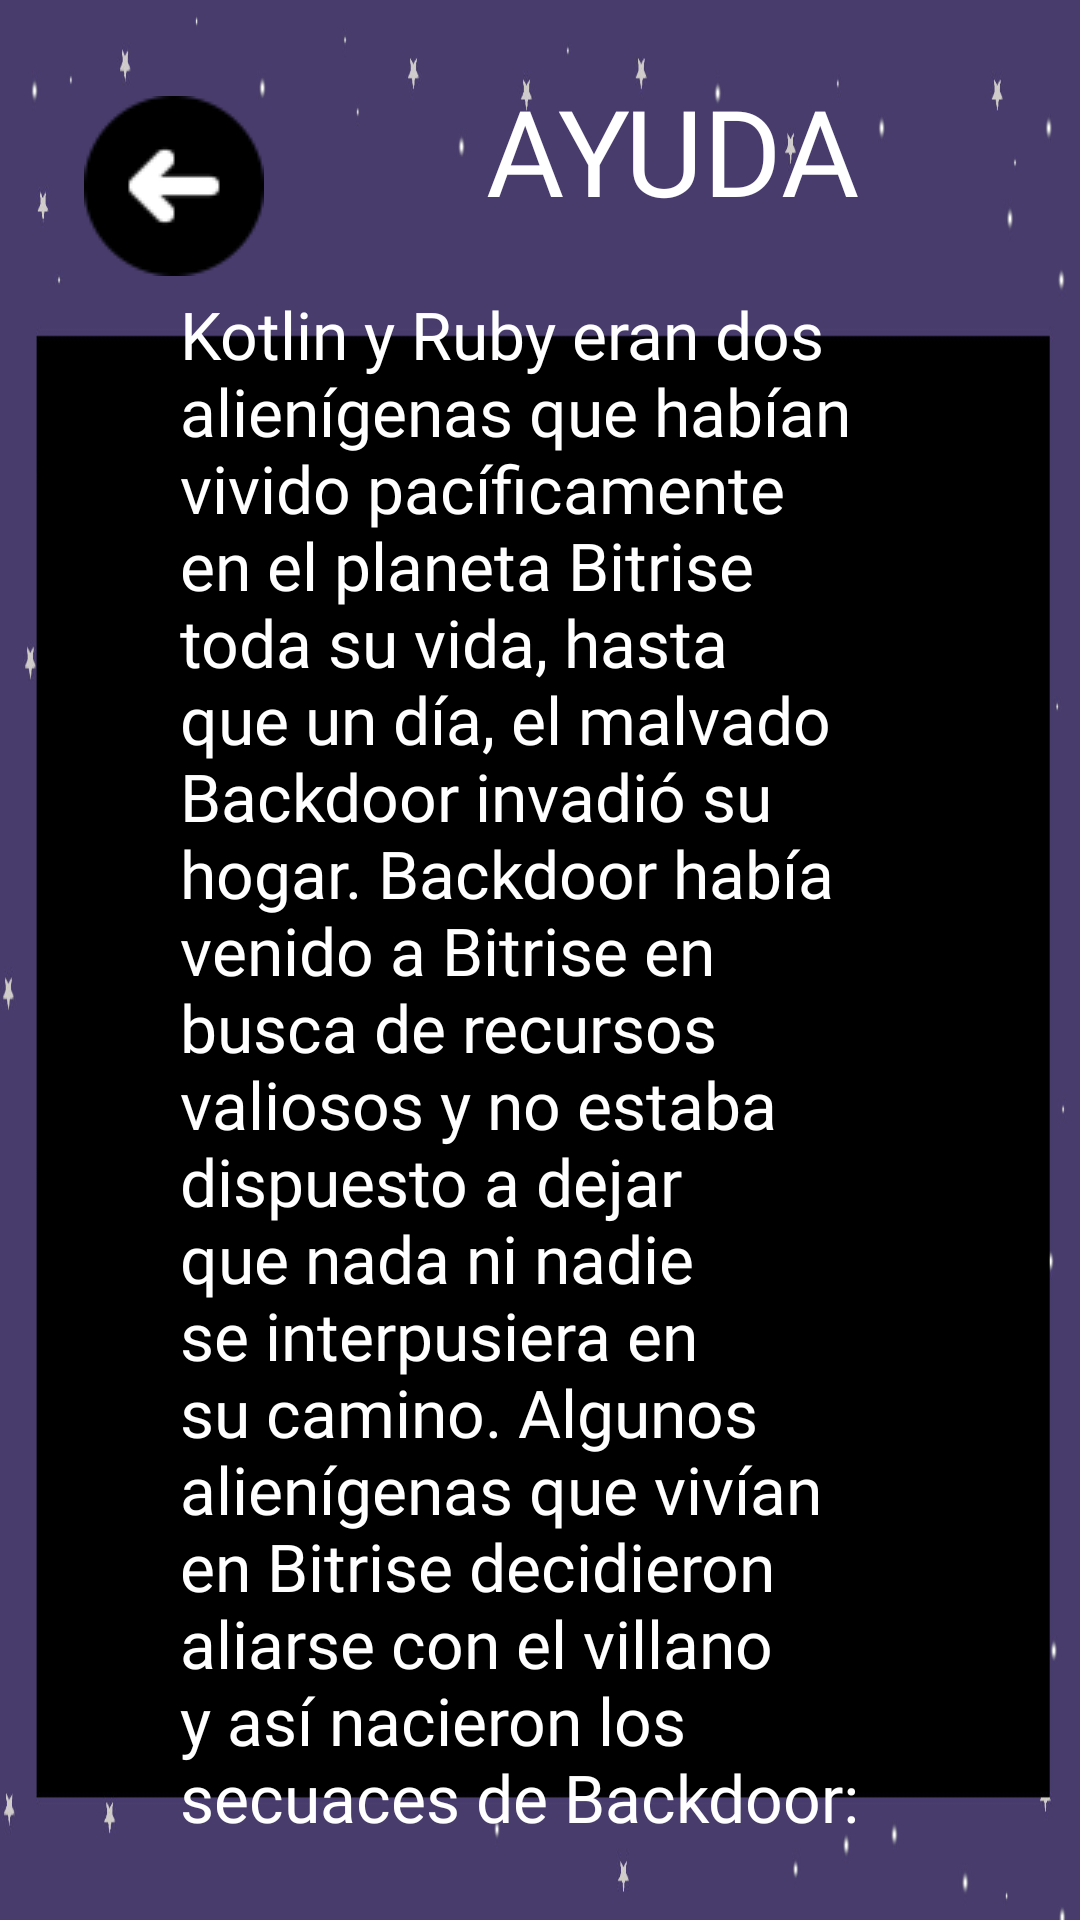

Icon bounding boxes for this 1080×1920 phone screenshot, format [left=x1, top=y1, right=x2, bottom=y2]:
Return to prevoius screen: [left=84, top=96, right=264, bottom=276]
